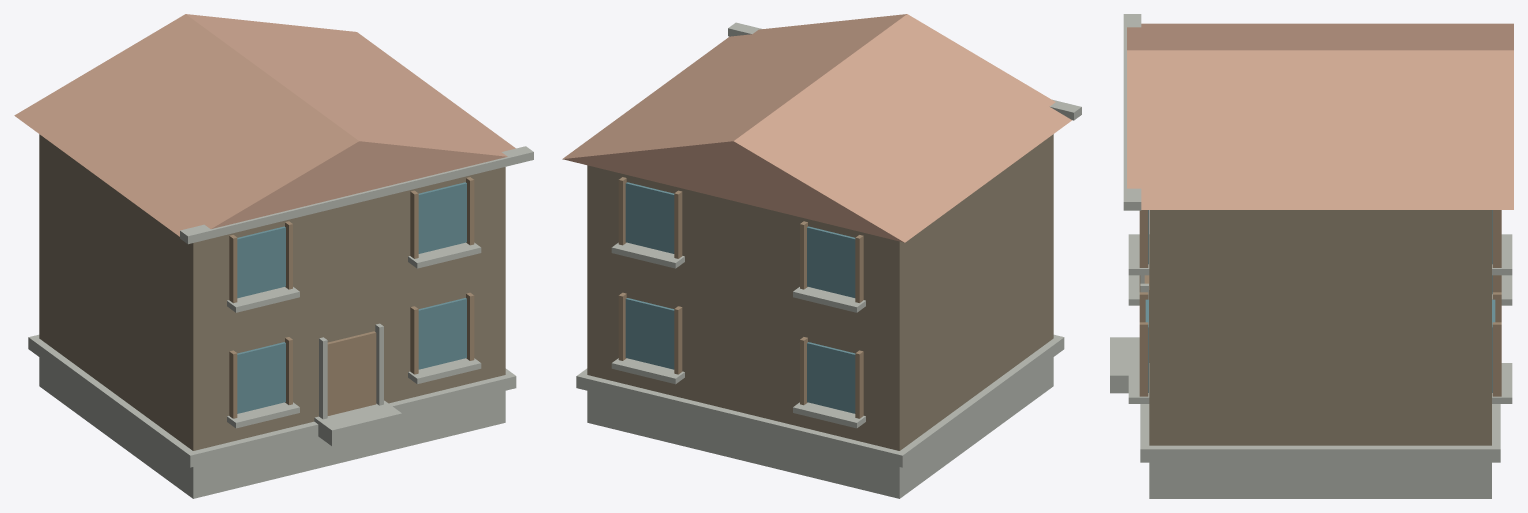
The model's file is farm-1.glb.
3 renders of one model, left to right at view 1: azimuth 30°, elevation 25°; view 2: azimuth 150°, elevation 25°; view 3: azimuth 270°, elevation 25°, orthographic. The views are drawn at different scales.
Size of the model in its own units: 4.54 by 4.1 by 4.13.
